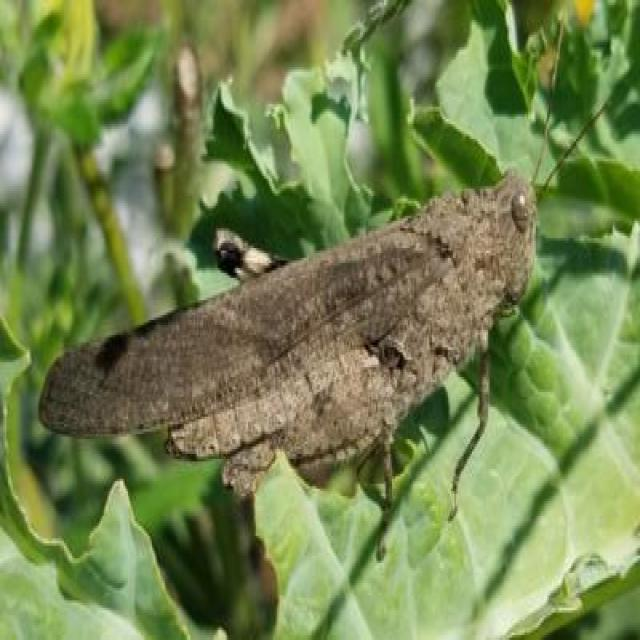antennae: (539, 94, 615, 201), (530, 25, 566, 176)
body: (168, 175, 530, 465)
insect: (42, 23, 614, 563)
legs: (452, 331, 496, 513), (376, 412, 407, 563)
mouthpart: (503, 268, 528, 308)
wings: (49, 233, 435, 442)
